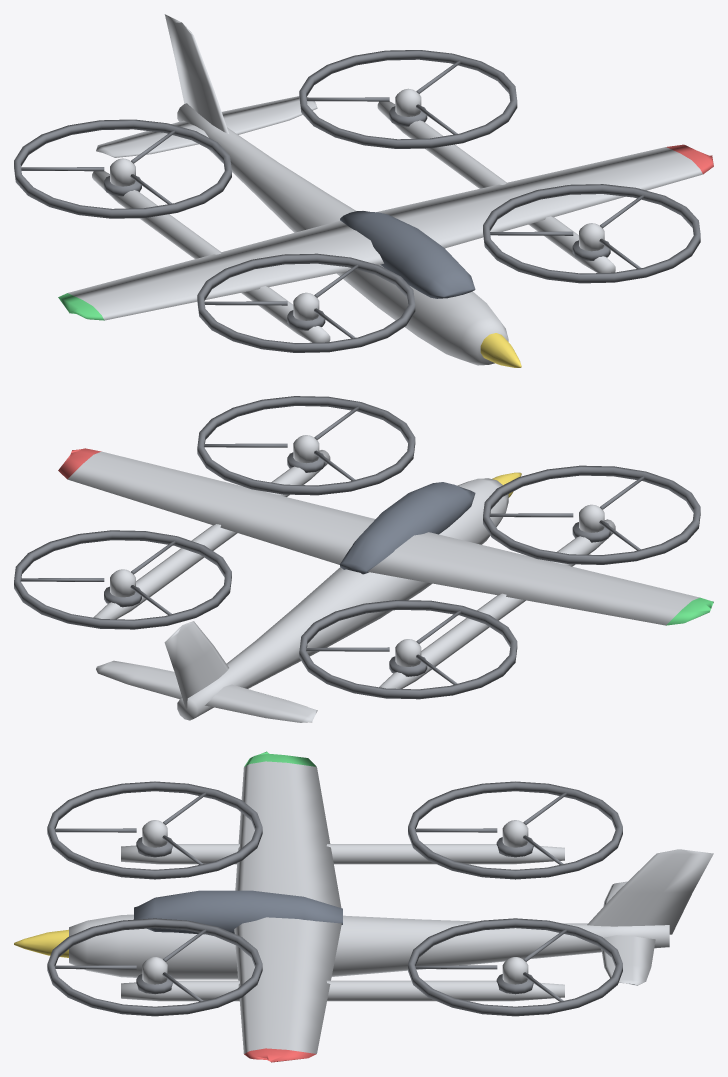
The model's file is uav-vtol.glb.
3 renders of one model, top to bottom at view 1: azimuth 30°, elevation 25°; view 2: azimuth 150°, elevation 25°; view 3: azimuth 270°, elevation 25°, orthographic.
Visible parts, largest first — view 1: part3, part2, part1, part5, part0, part4; view 2: part3, part2, part1, part0, part4; view 3: part3, part2, part1, part5, part4, part0.
Boxes of the visible parts, <box> form: part3: <box>68,14,702,365</box>; part2: <box>14,50,700,352</box>; part1: <box>340,211,475,298</box>; part5: <box>480,333,521,367</box>; part0: <box>58,293,104,320</box>; part4: <box>666,144,713,174</box>; part3: <box>67,435,699,722</box>; part2: <box>14,396,700,699</box>; part1: <box>340,482,475,574</box>; part0: <box>666,597,713,625</box>; part4: <box>58,448,101,479</box>; part3: <box>69,761,713,1053</box>; part2: <box>47,781,622,1016</box>; part1: <box>134,890,342,934</box>; part5: <box>14,929,68,957</box>; part4: <box>244,1048,316,1062</box>; part0: <box>244,751,316,766</box>.
Size of the model in its own units: 1.22 by 0.2355 by 1.18.
